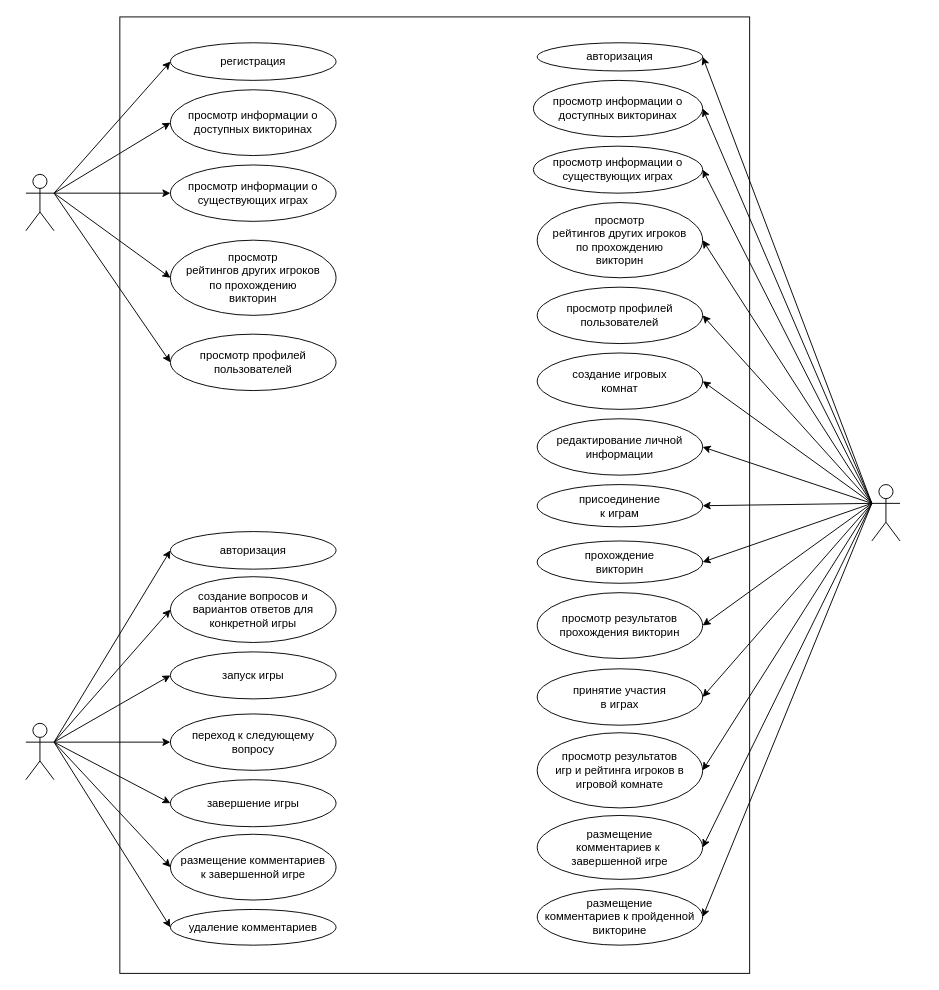
This 939x990 diagram has some shape labels left out. The centre of each missing label's shape, as x and y in pixels:
"Ведущий" belongs at pixel 39 751.
"Гость" belongs at pixel 39 202.
"Пользователь" belongs at pixel 885 512.
